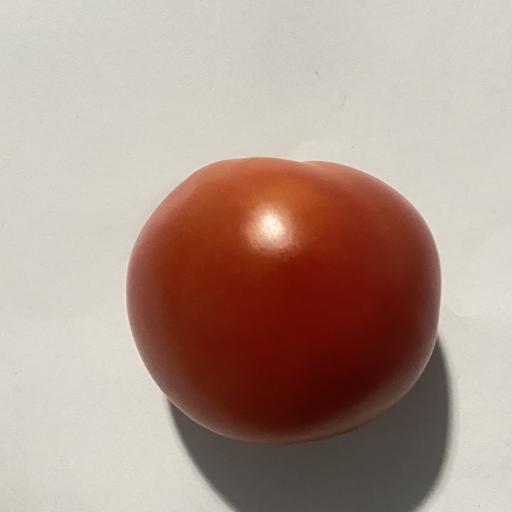ripe: (127, 158, 441, 444)
